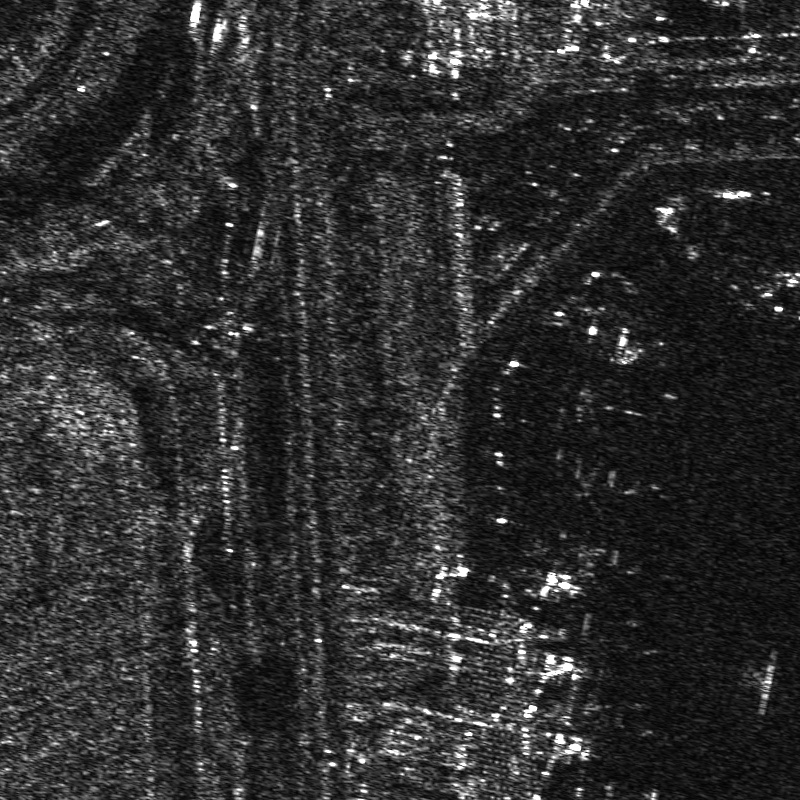Boeing737: (753, 269, 799, 323)
